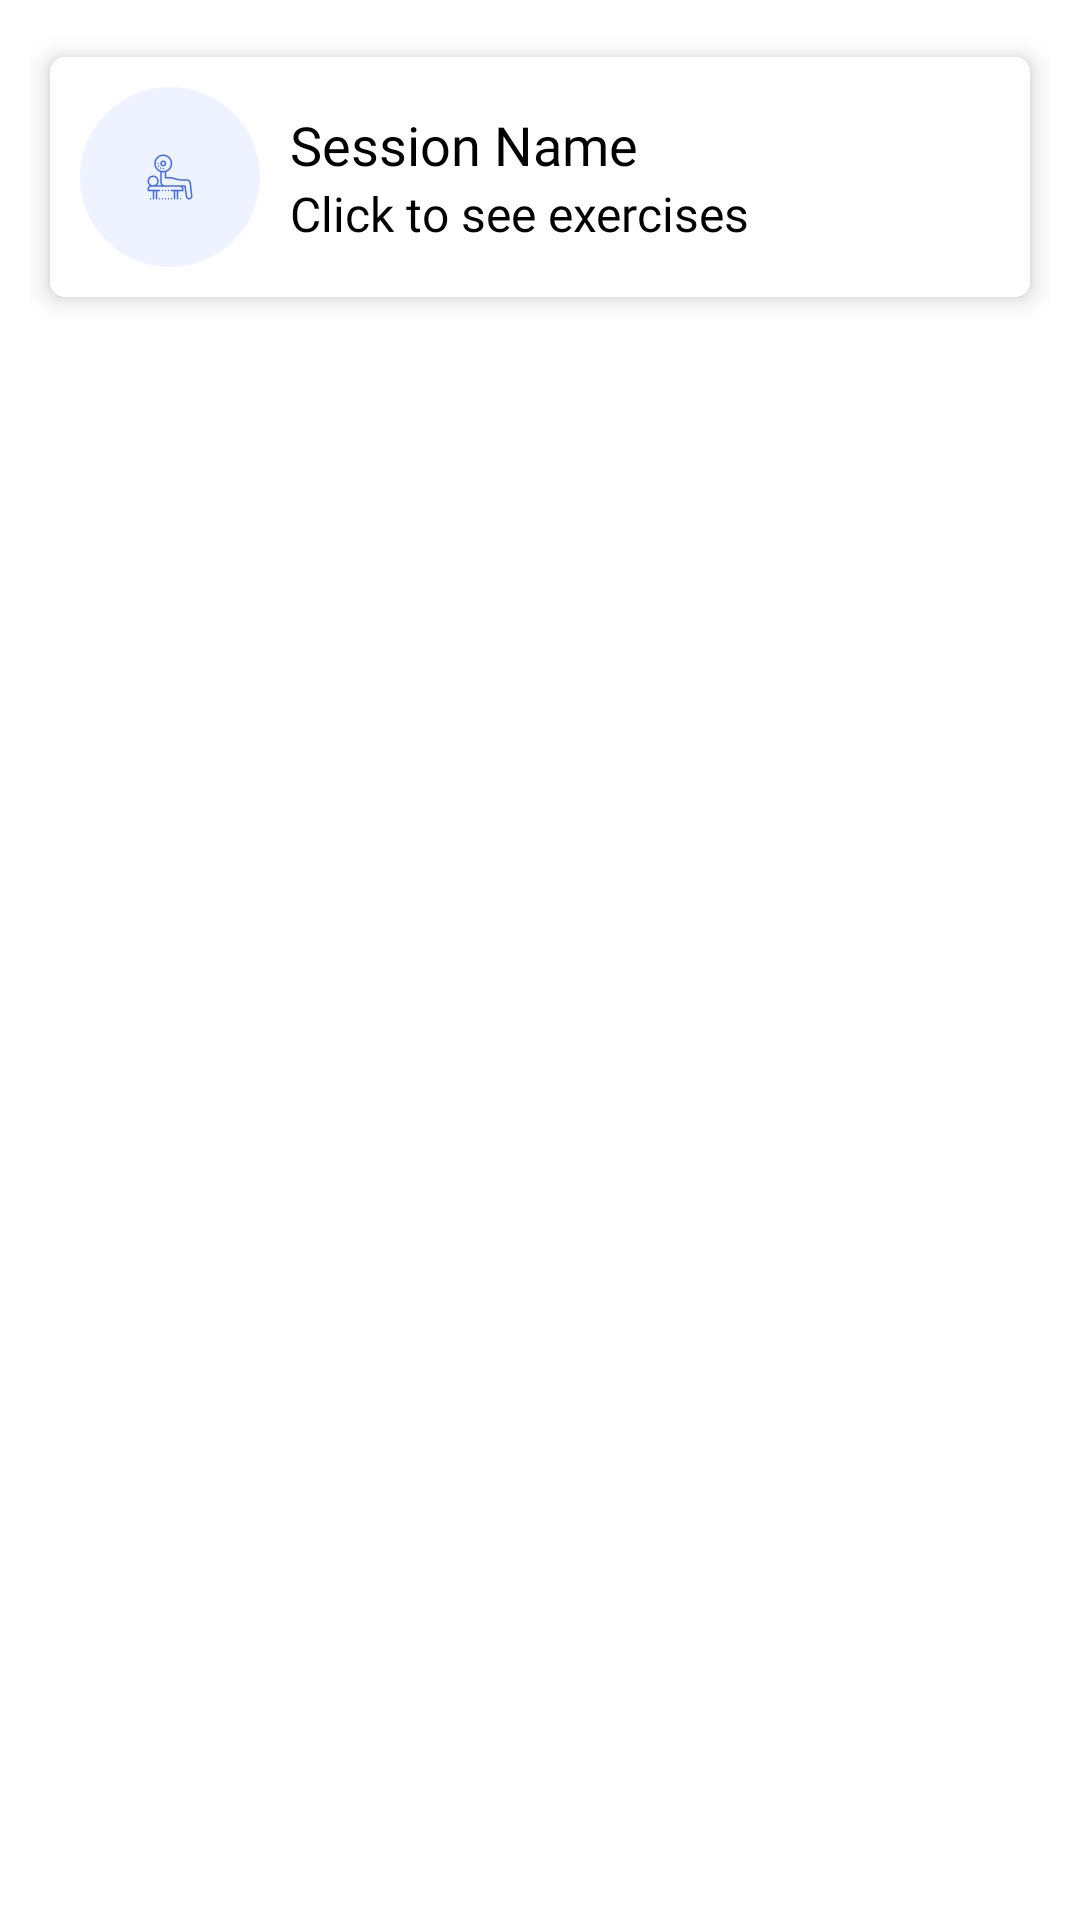

Screen size 1080px×1920px. Icon name, then its box in pixels as (x1, y1, x2, y2):
press: (80, 87, 260, 267)
